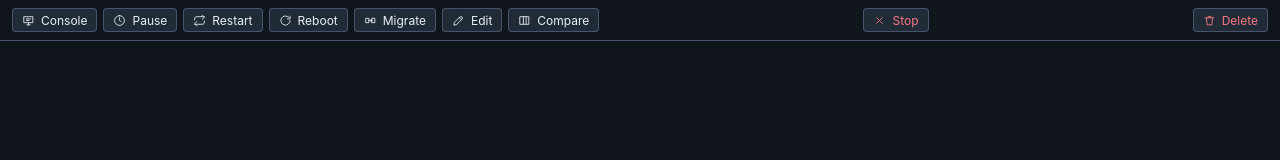
Restart asks about {}, not about deleting
What coordinates should you click on to do the following:
click the button "Restart"
I would click on:
 (223, 20)
Its box is [183, 8, 262, 32].
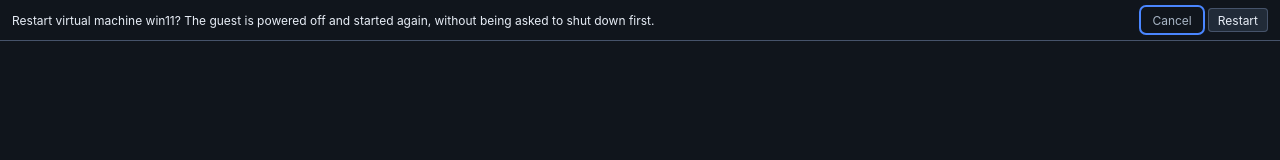
Now the text "Restart virtual machine win11?" is shown, box [12, 12, 654, 28]
